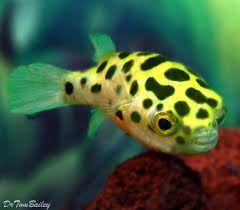Green Spotted Puffer: (5, 30, 229, 156)
